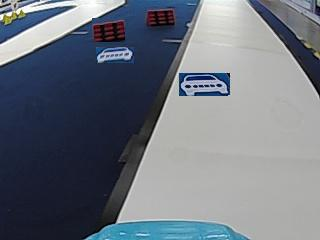bomb: (146, 7, 175, 25)
